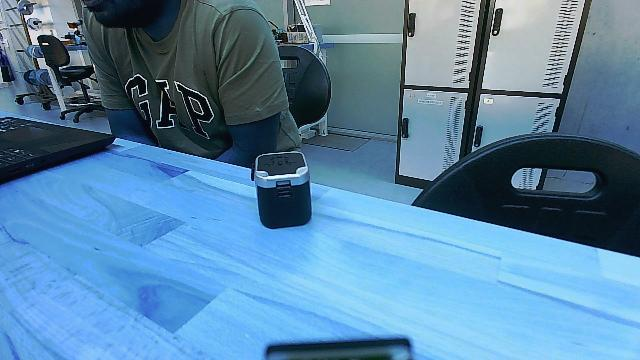adapter: (250, 148, 318, 234)
